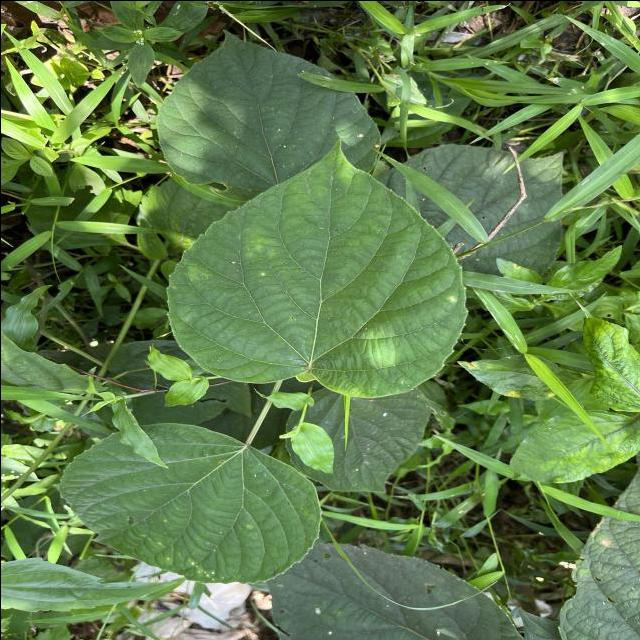Clerodendrum infortunatum: (163, 135, 471, 400), (55, 420, 322, 584), (153, 28, 383, 202)
